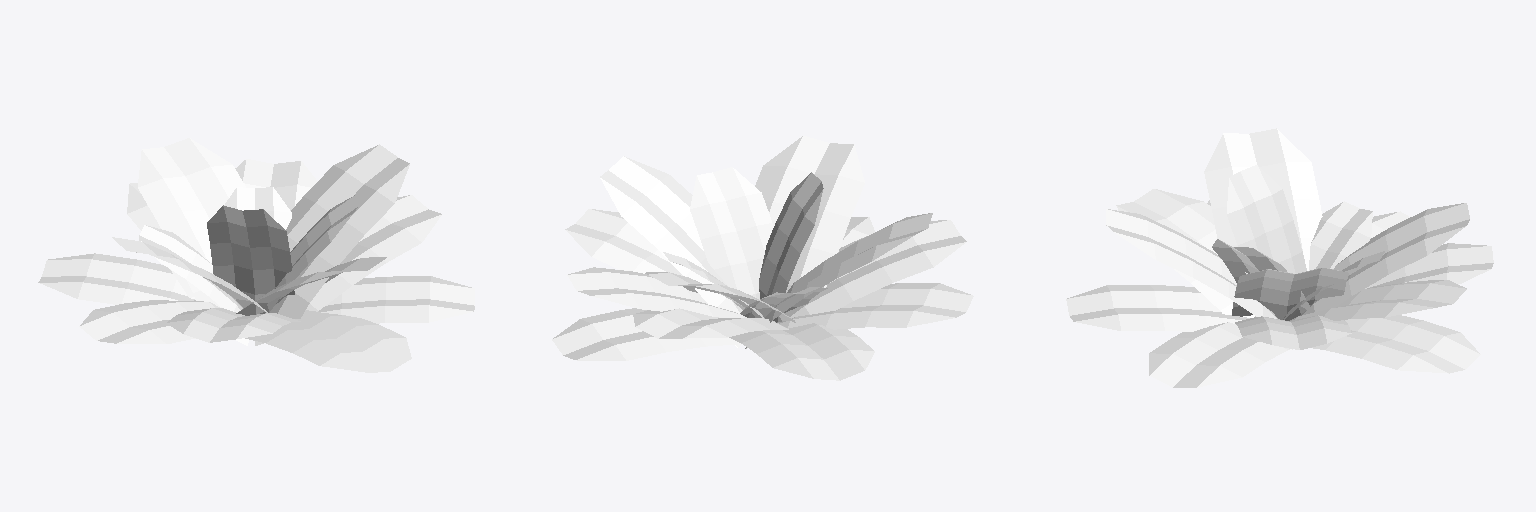
The model's file is Fern_01.obj.
3 renders of one model, left to right at view 1: azimuth 30°, elevation 25°; view 2: azimuth 150°, elevation 25°; view 3: azimuth 270°, elevation 25°, orthographic.
Visible parts, largest first — view 1: Fern_01_Plane.005; view 2: Fern_01_Plane.005; view 3: Fern_01_Plane.005.
Part boxes in pixels (bbox=[...]): Fern_01_Plane.005: bbox=[38, 138, 474, 372]; Fern_01_Plane.005: bbox=[552, 136, 973, 380]; Fern_01_Plane.005: bbox=[1066, 128, 1493, 387].
Bounding box in the file's own units: 1.6 × 0.5854 × 1.62.